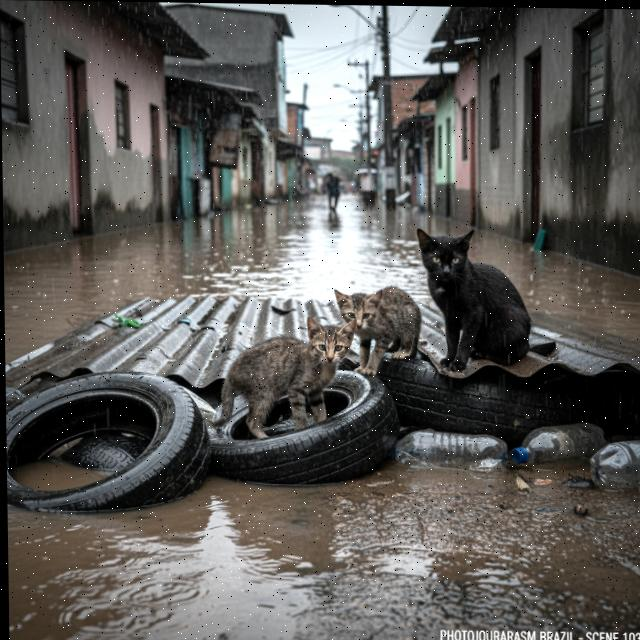cat: (413, 221, 545, 374), (207, 316, 366, 439), (330, 281, 424, 380)
civilian: (322, 170, 347, 213)
